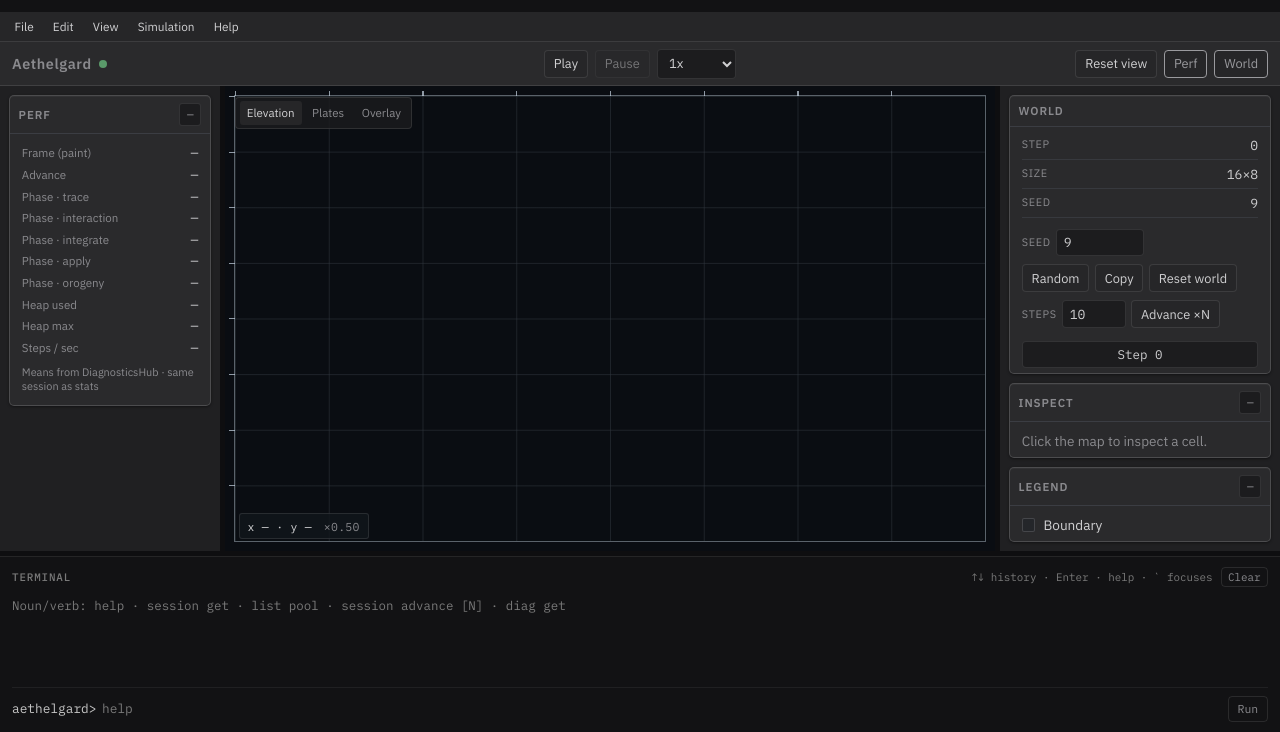
Test: world rail › Random picks a seed, Reset world grows it, and Copy puts the seed on the clipboard
Click the button "Random": (1056, 278) x1=1022 y1=264 x2=1089 y2=292
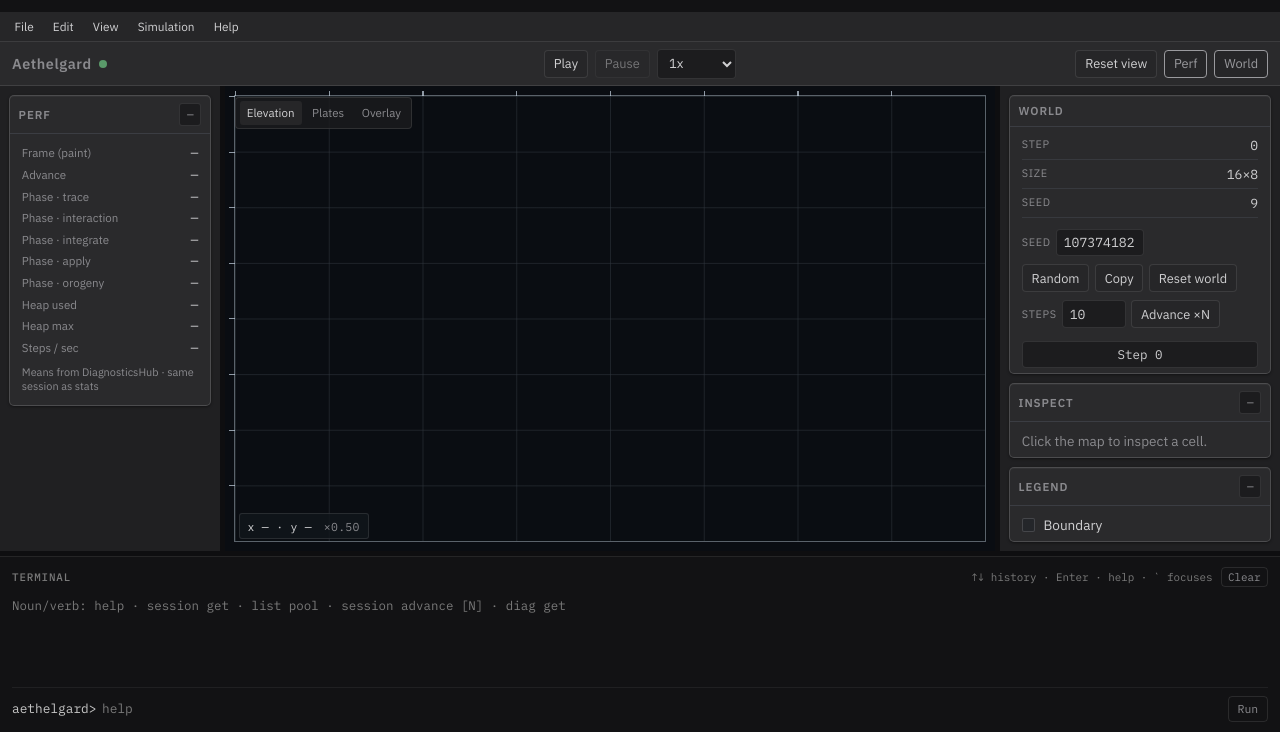
Result: the field labelled "Seed" holds "1073741823" at x1=1056 y1=228 x2=1144 y2=256
Click the button "Reset world": (1193, 278) x1=1149 y1=264 x2=1237 y2=292
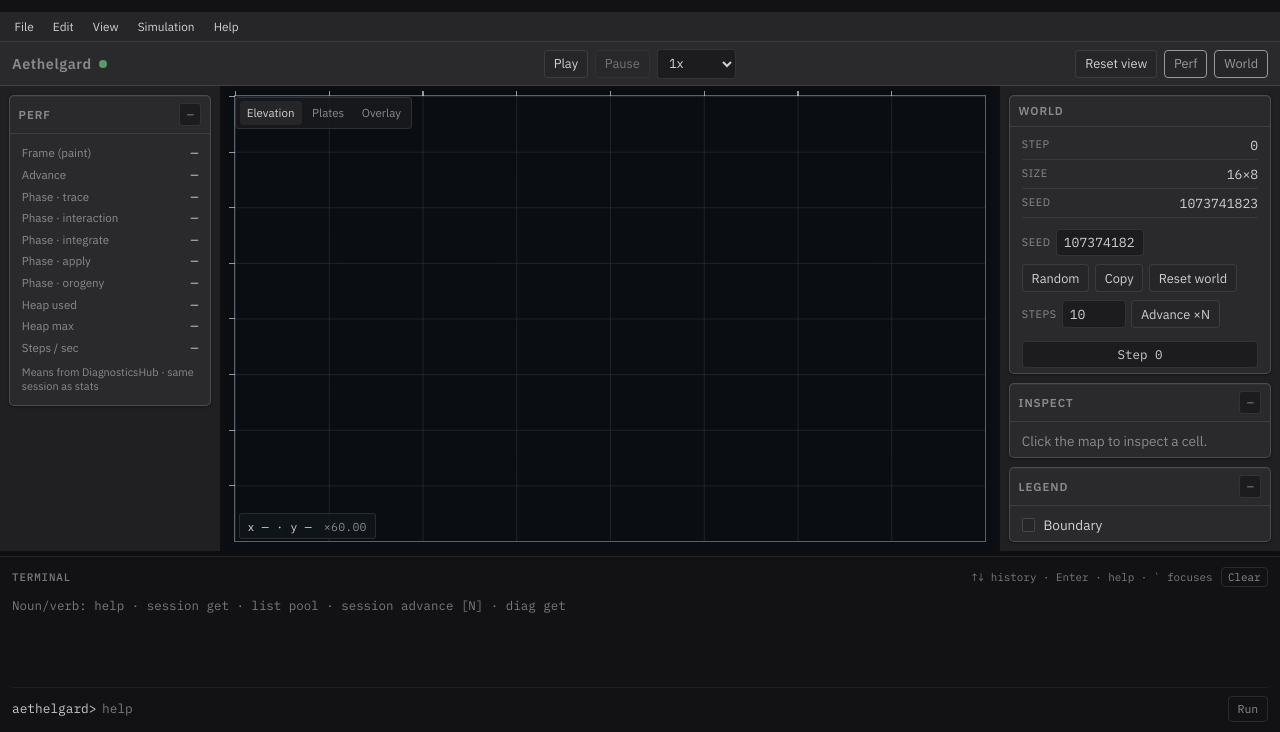
Click the button "Copy": (1119, 278) x1=1095 y1=264 x2=1143 y2=292
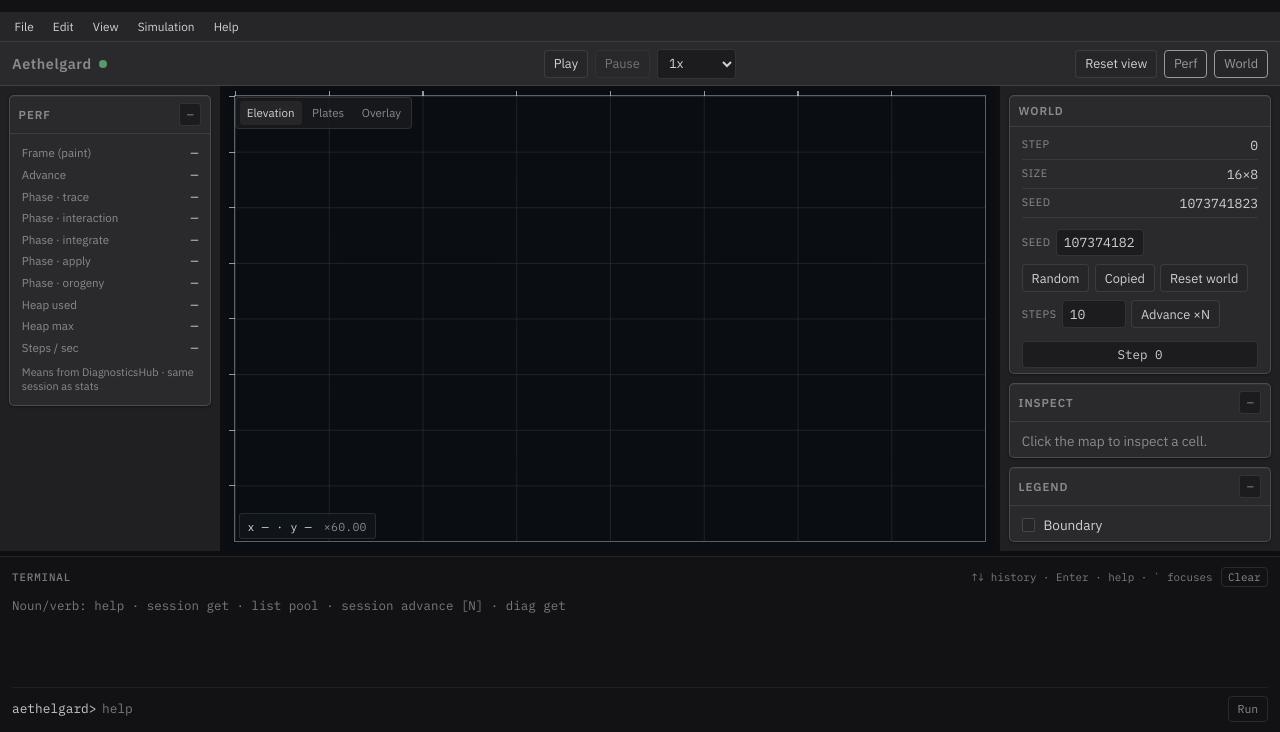
Result: the button "Copied" is shown at x1=1095 y1=264 x2=1155 y2=292
